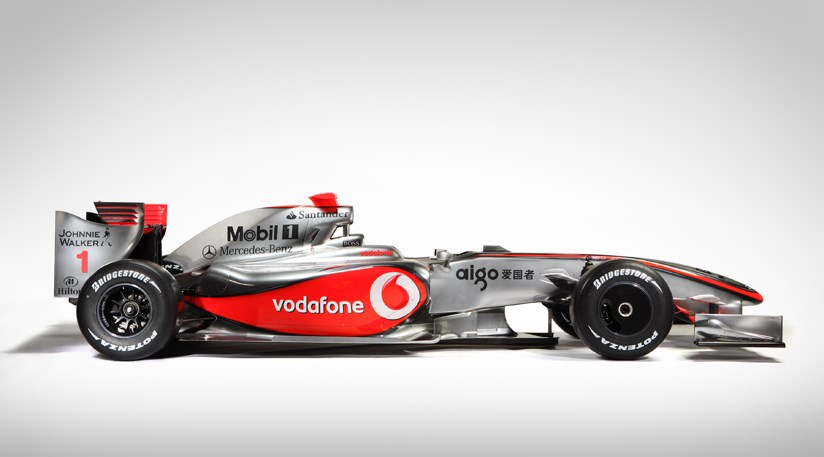f1_car: (35, 184, 799, 387)
